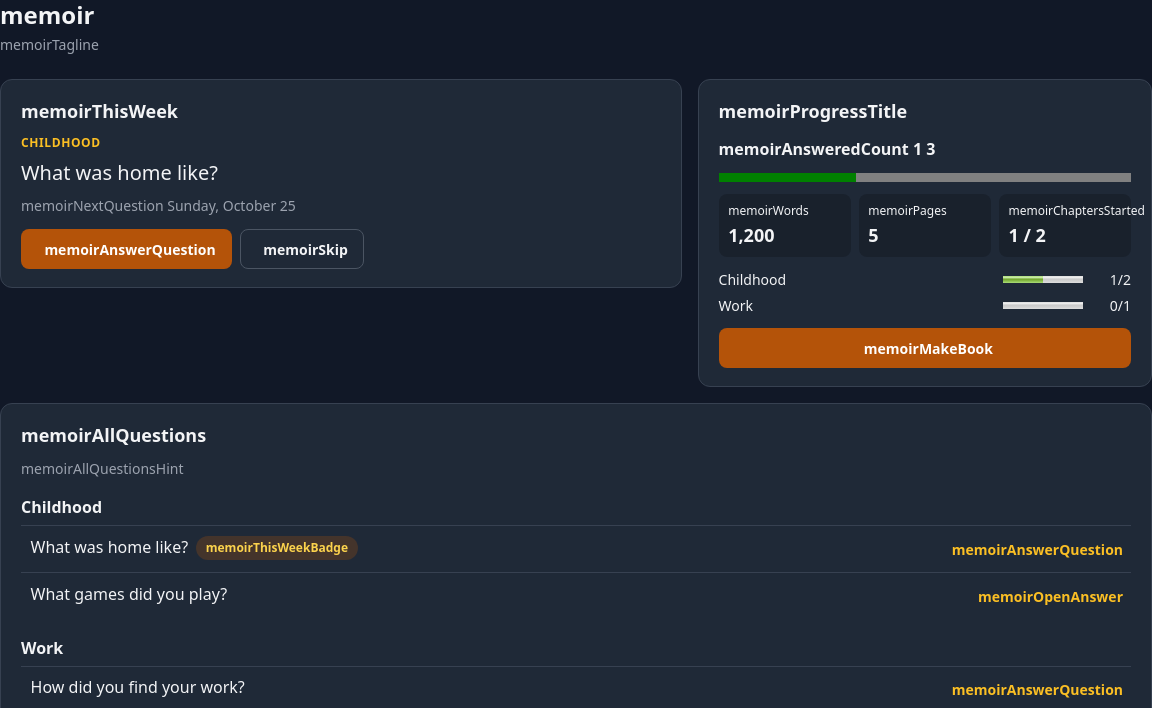
Test: MemoirPage › answers this week’s question and confirms it was saved
The width and height of the screenshot is (1152, 708).
Click the button "memoirAnswerQuestion" below "memoirNextQuestion Sunday, October 25" at {"x": 126, "y": 249}, box [21,229,232,269]
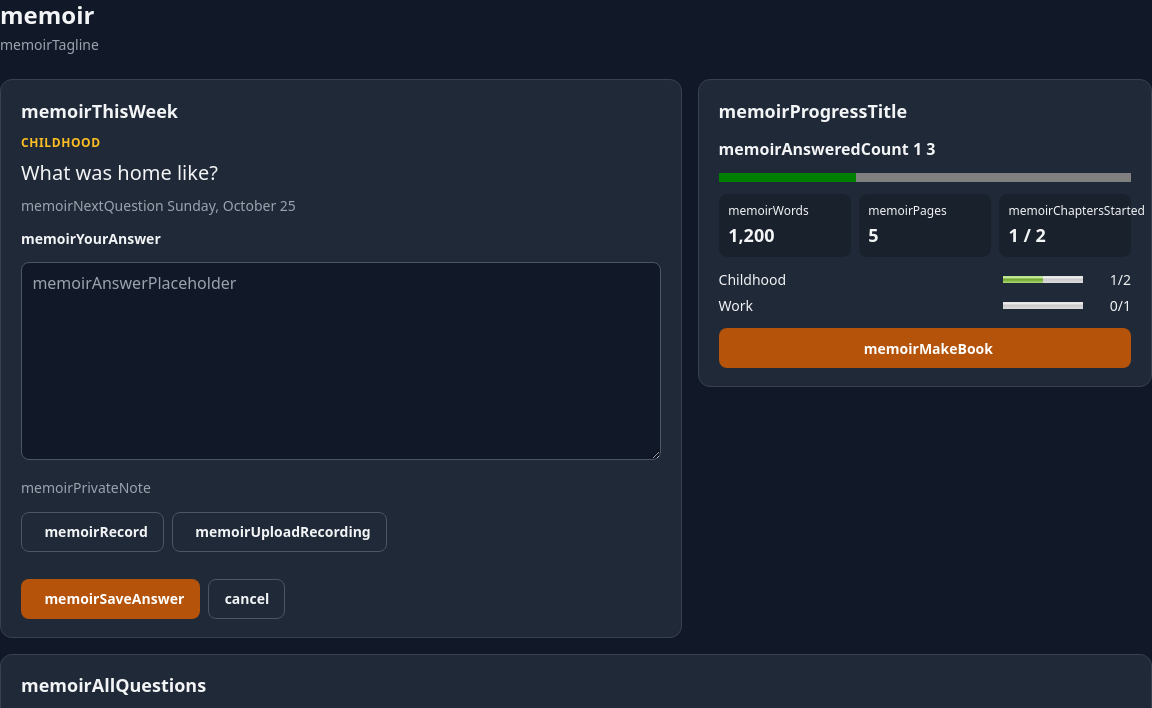
Click the button "memoirSaveAnswer" at {"x": 111, "y": 599}, box [21,579,200,619]
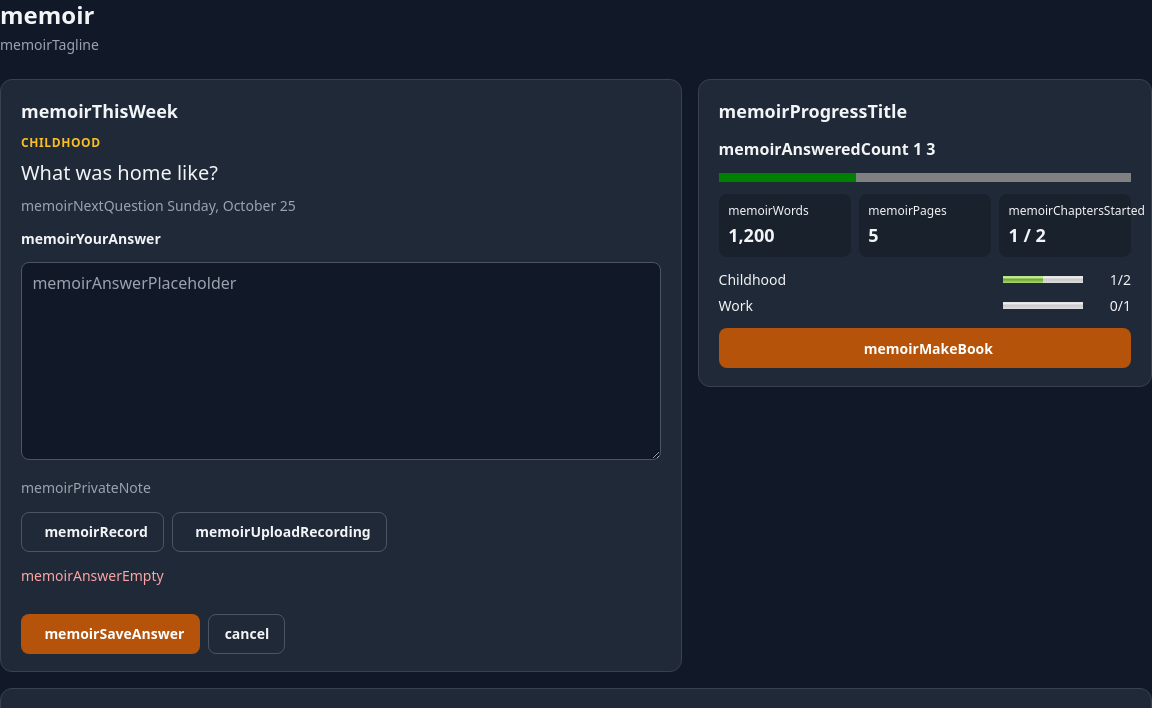
expect the message reads "memoirAnswerEmpty": met, box [21,566,164,585]
Type "  A fig tree in the yard. " into the text box labelled "memoirYourAnswer" at {"x": 341, "y": 361}, box [21,262,661,460]
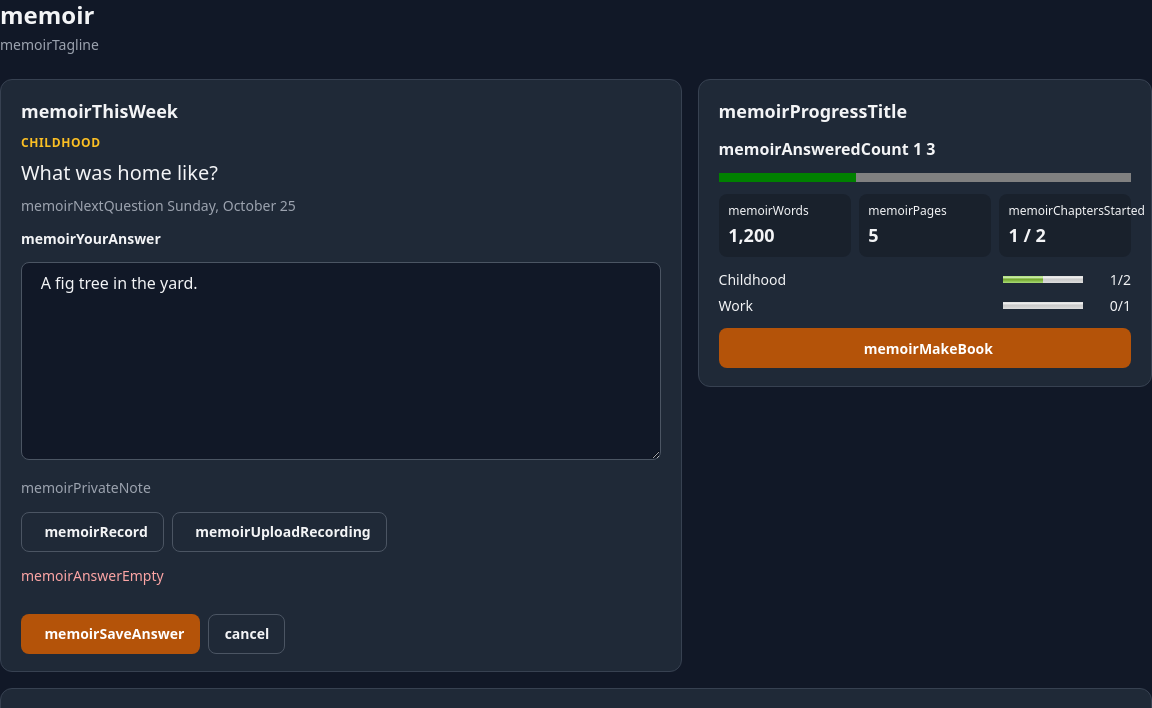
Click the button "memoirSaveAnswer" at {"x": 111, "y": 634}, box [21,614,200,654]
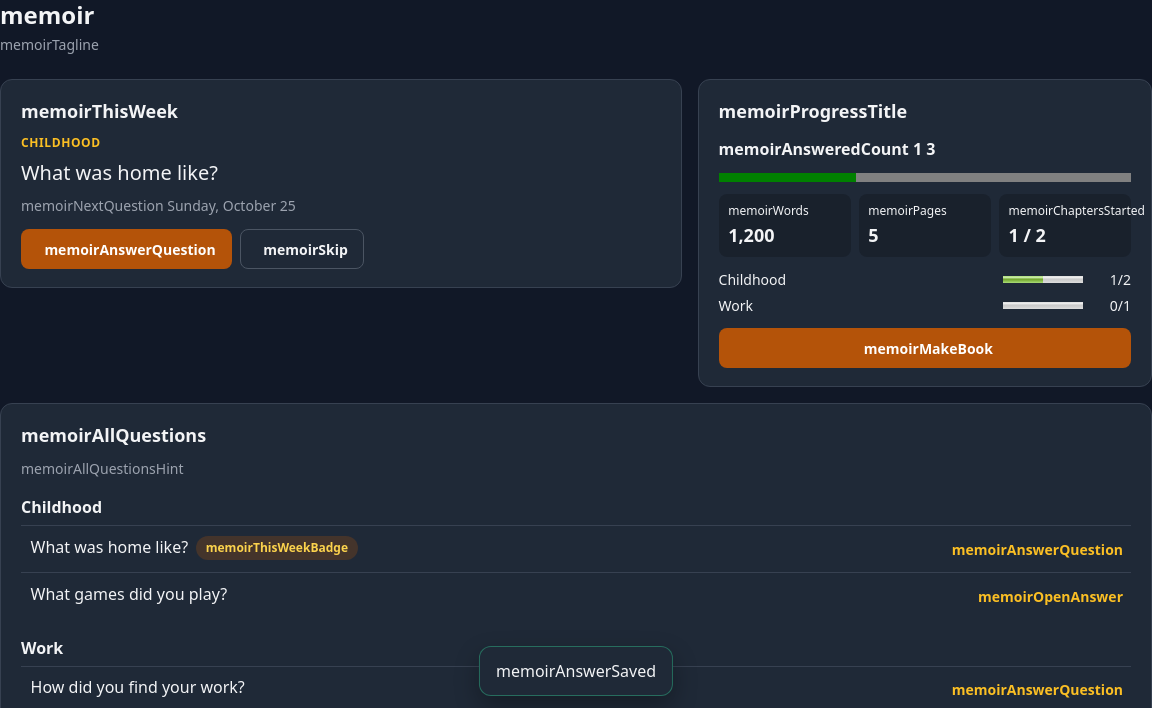
expect the text "memoirAnswerSaved" is shown: met, box [479,646,673,696]
expect the label labelled "memoirYourAnswer" is gone: met
